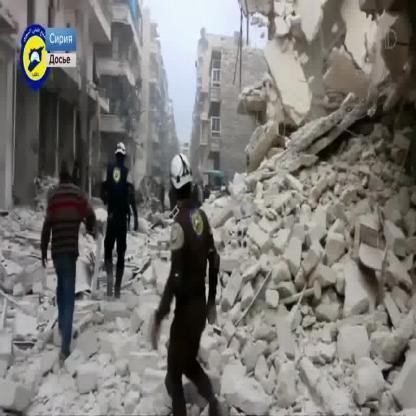helmet: (170, 152, 194, 190), (115, 141, 127, 157)
